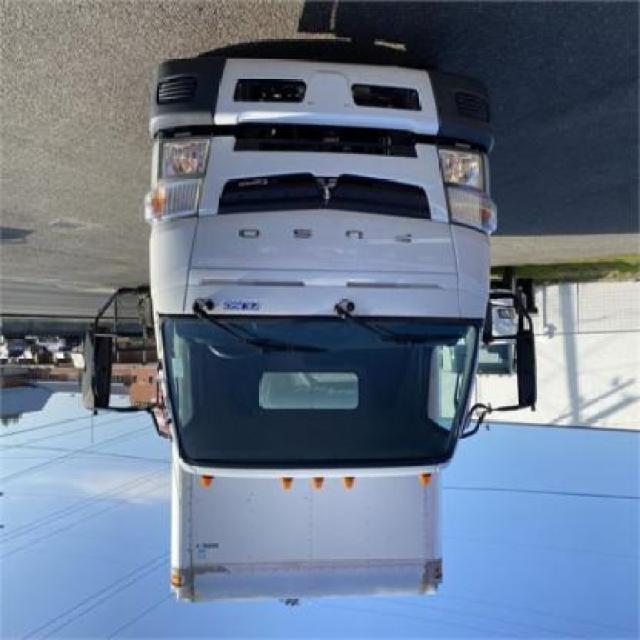truck: (95, 56, 539, 609)
